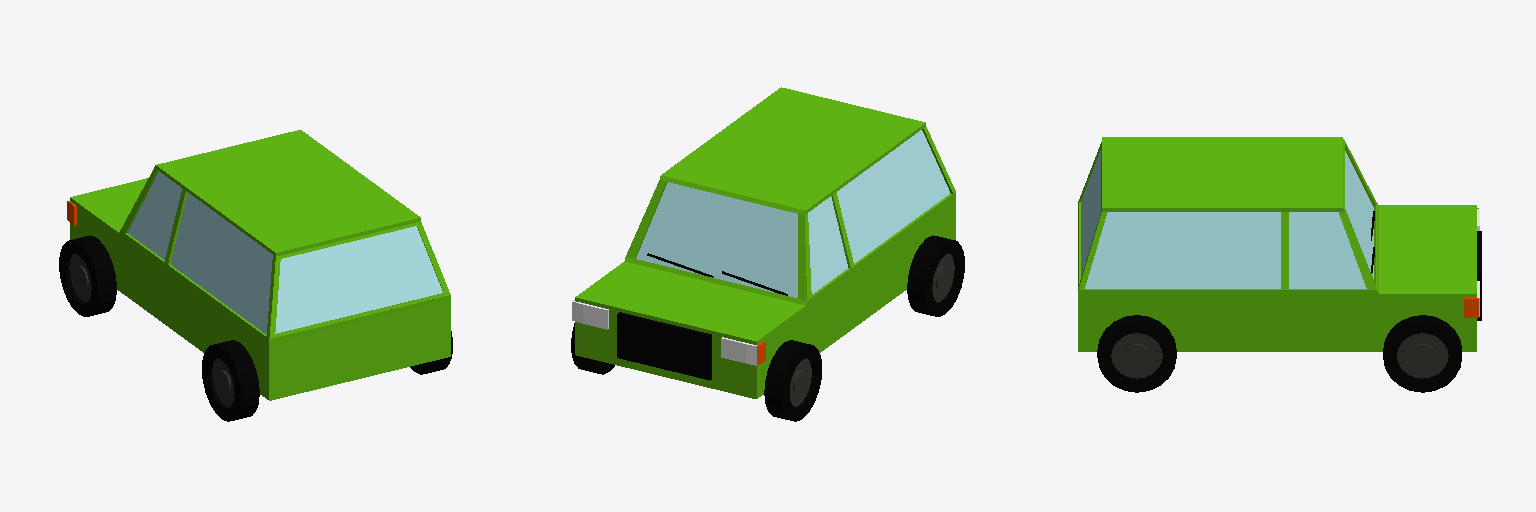
The model's file is Jeep_Green.obj.
3 views of the same model, side by side, from view 1: azimuth 30°, elevation 25°; view 2: azimuth 150°, elevation 25°; view 3: azimuth 270°, elevation 25° (orthographic).
Visible parts, largest first — view 1: Jeep_Green; view 2: Jeep_Green; view 3: Jeep_Green.
Part boxes in pixels (bbox=[...]): Jeep_Green: bbox=[59, 130, 452, 421]; Jeep_Green: bbox=[571, 87, 964, 421]; Jeep_Green: bbox=[1078, 137, 1481, 392].
Bounding box in the file's own units: 172 × 132 × 284.